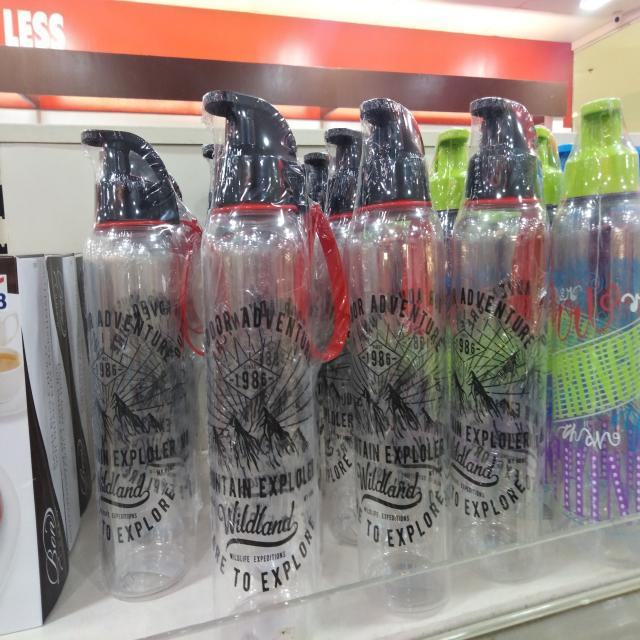plastic_bottle: (80, 128, 205, 601)
